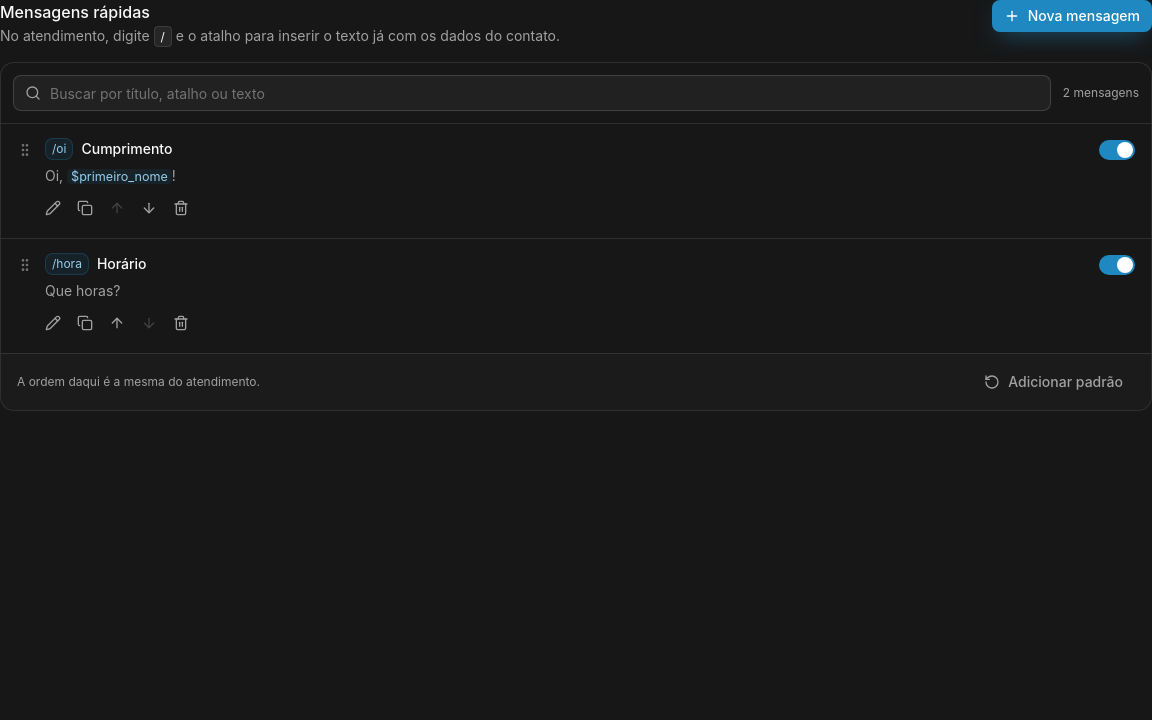
Mensagens rápidas › não deixa salvar atalho repetido nem perder o texto sem confirmar
The width and height of the screenshot is (1152, 720).
Click the button named "Editar Cumprimento". click: click(53, 208)
box: [37,192,69,224]
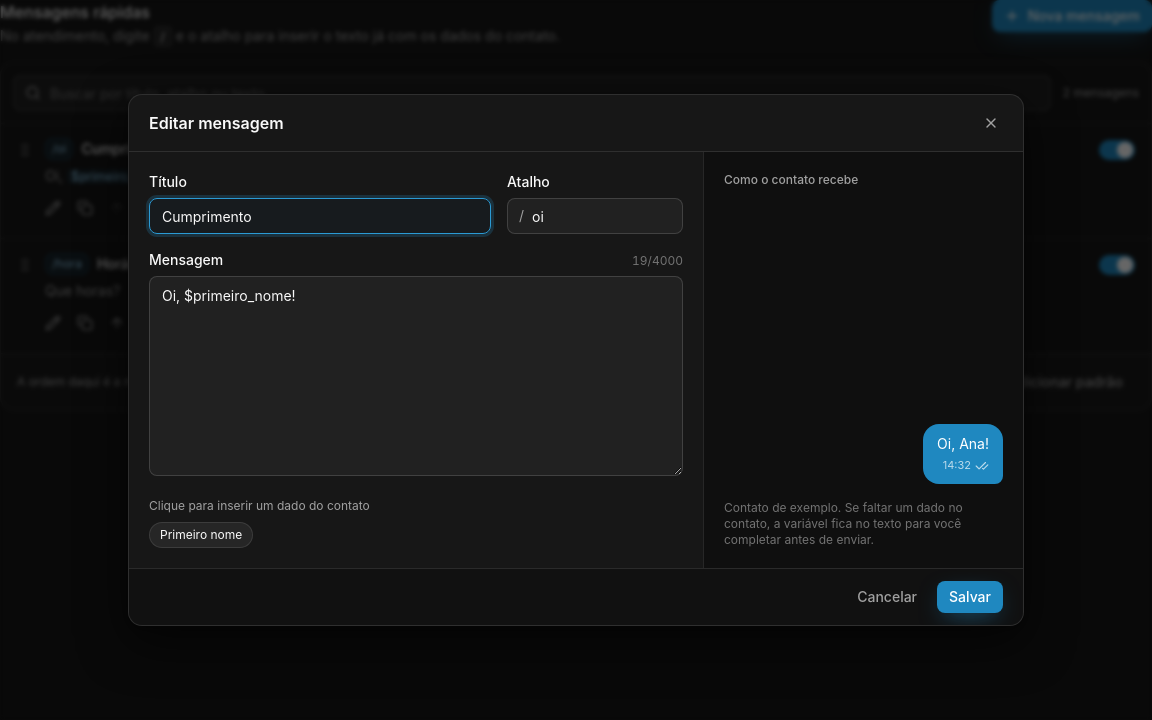
Replace the text in the field labelled "Atalho" with "hora". click: (595, 216)
box: [507,198,683,234]
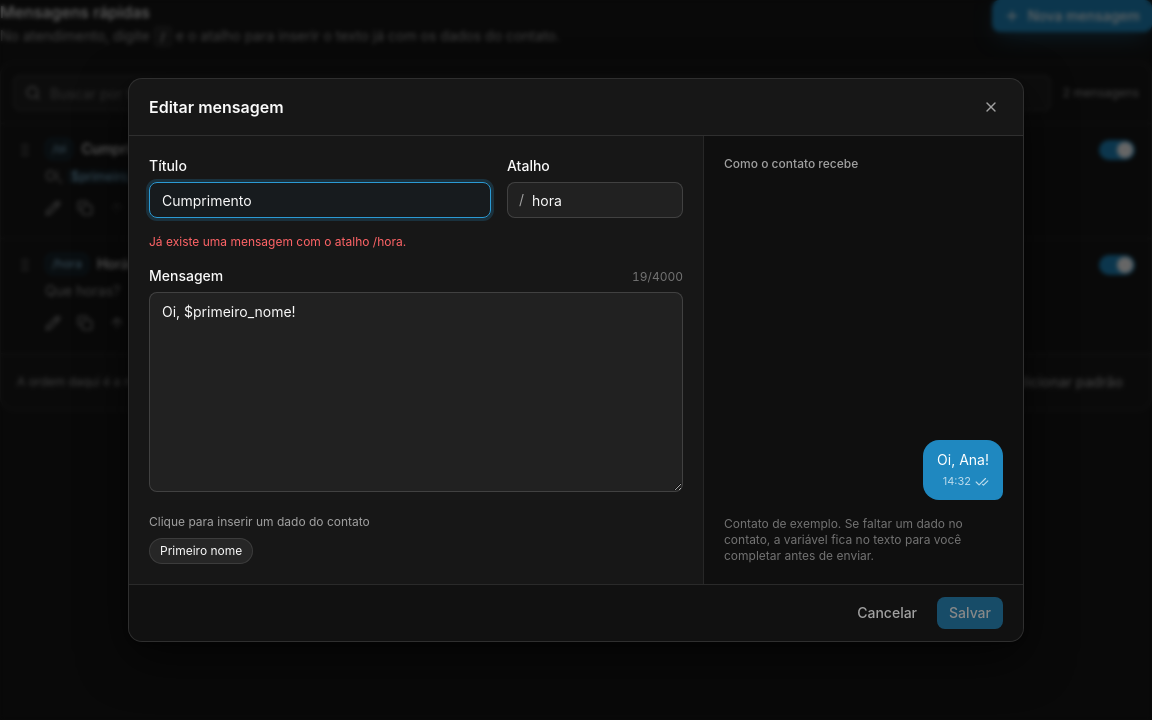
expect the button "Salvar" is disabled: met, box [937,597,1003,629]
Press Escape
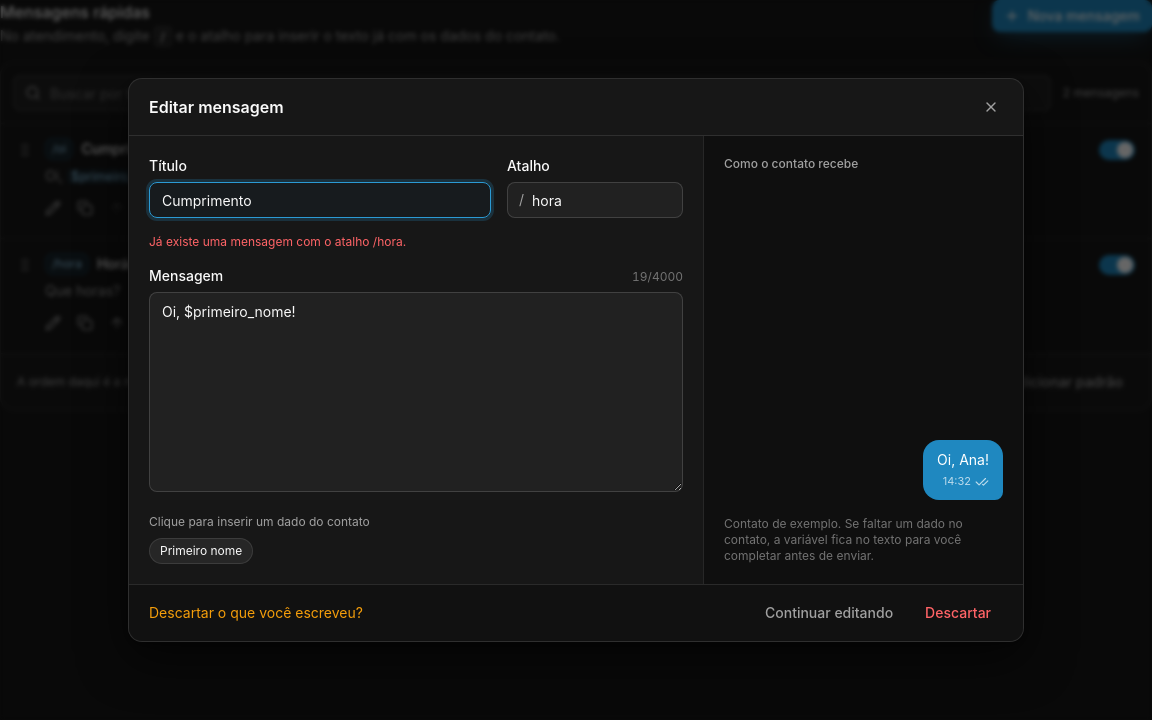
expect the text "Descartar o que você escreveu?" is shown: met, box [149,603,363,623]
